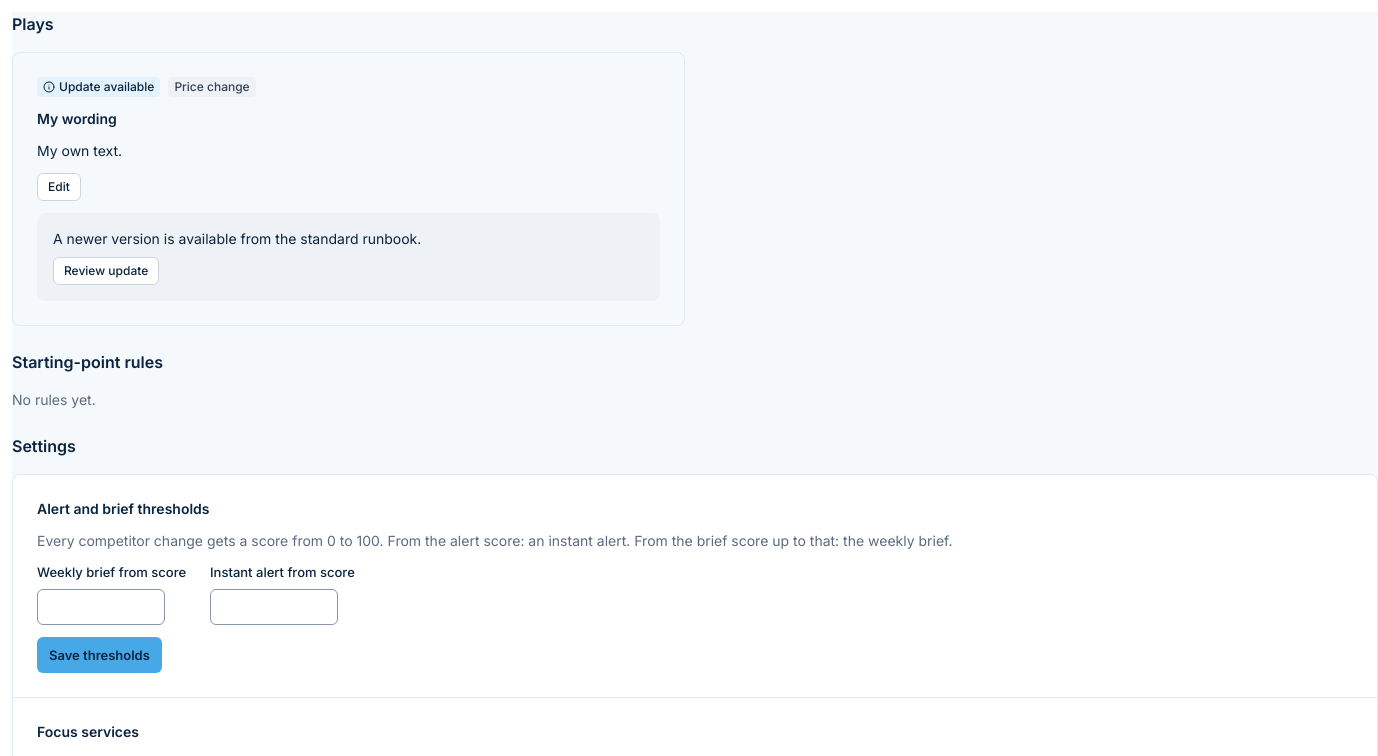
Test: RunbookEditor › diffs a customised item from the snapshot to the new parent text and shows "Your version" beneath
The image size is (1378, 756).
Click the button "Review update": {"x": 106, "y": 271} [53, 257, 159, 285]
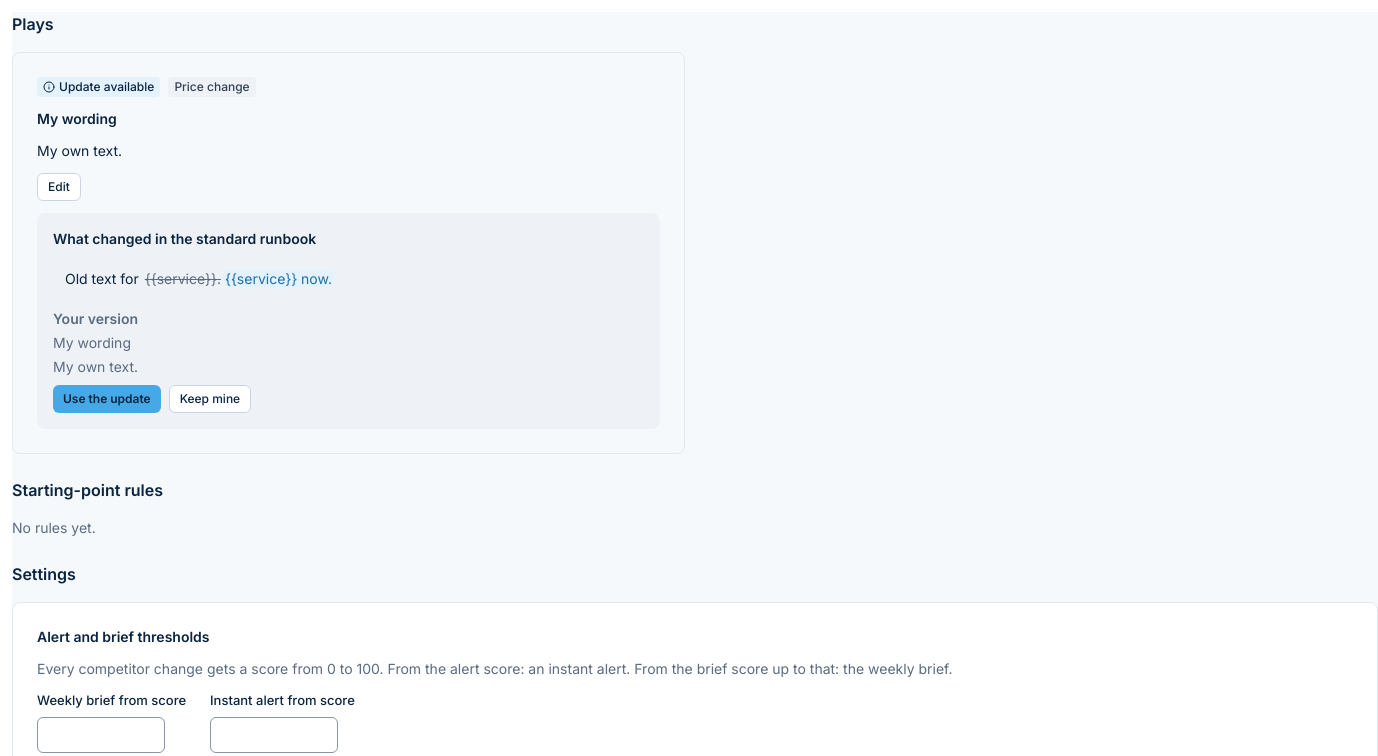
Check: the element with test id "runbook-diff" shows "Old text for", box [65, 270, 143, 287]
Check: the text "{{service}} now." is shown, box [223, 270, 334, 287]
Check: the element with test id "runbook-yours" shows "My own text.", box [53, 358, 138, 375]
